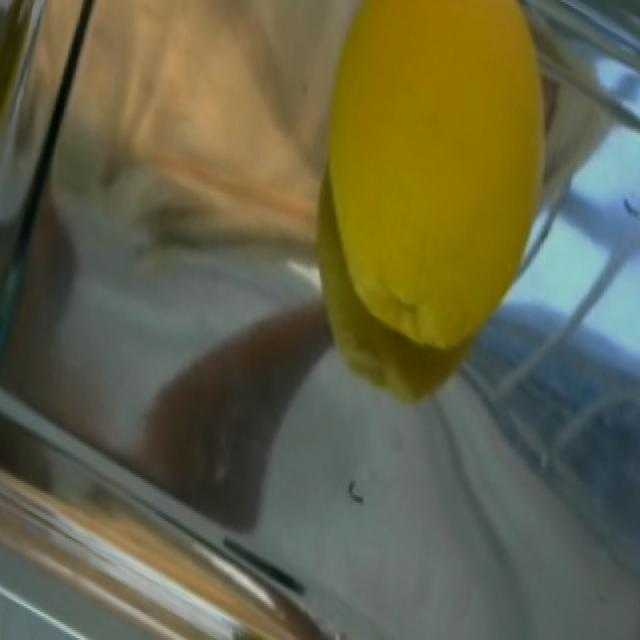Fruit: (300, 0, 569, 376)
